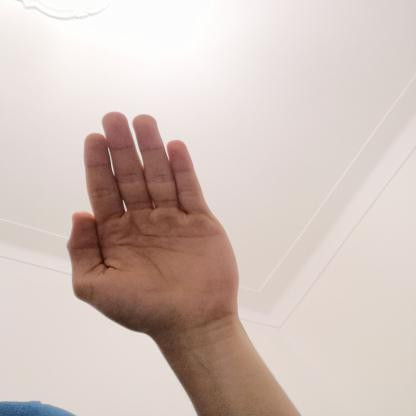SEEN: (54, 103, 255, 343)
